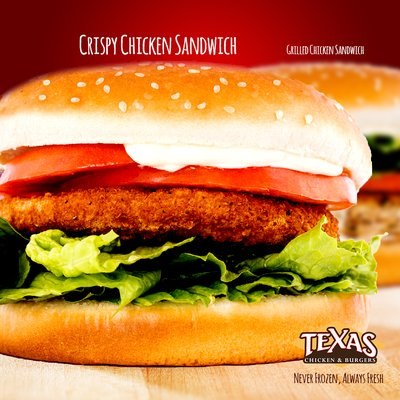soup: (0, 56, 383, 365)
